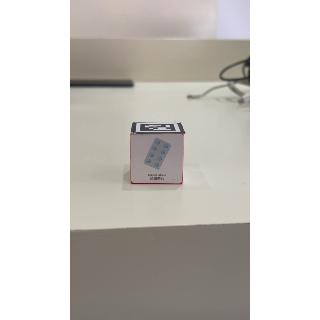Tablet: (134, 133, 186, 183)
